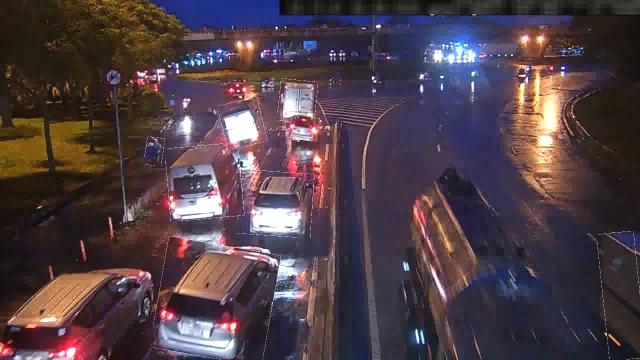Bike: (144, 138, 164, 166)
Bus: (167, 144, 243, 220)
Car: (154, 241, 276, 360), (0, 266, 154, 360), (238, 171, 314, 237), (290, 115, 318, 141)
Truck: (407, 176, 569, 360), (600, 232, 640, 360), (220, 99, 264, 148), (278, 80, 318, 124)
